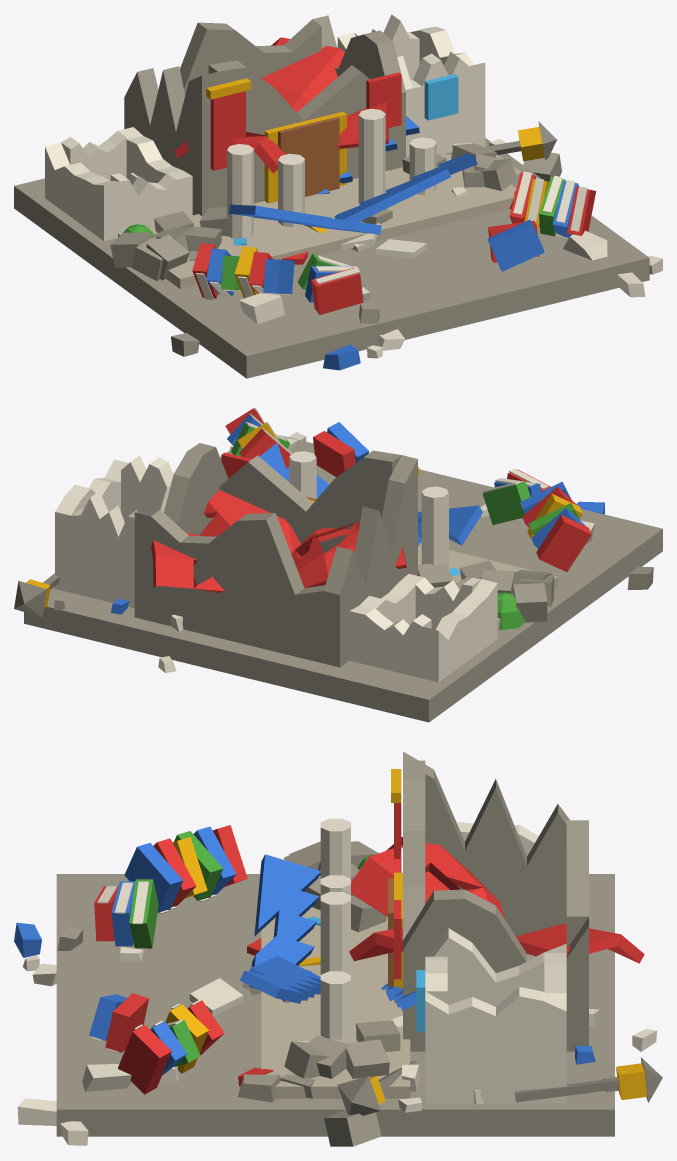
Rendered from library_t3_v3_dmg2.glb.
The picture shows the model from 3 angles, top to bottom: view 1: azimuth 30°, elevation 25°; view 2: azimuth 150°, elevation 25°; view 3: azimuth 270°, elevation 25°; orthographic projection. The views are drawn at different scales.
Visible parts, largest first — view 1: library_t3_v3_dmg2; view 2: library_t3_v3_dmg2; view 3: library_t3_v3_dmg2.
Part boxes in pixels (x1,y1,x2,y2): library_t3_v3_dmg2: [14, 14, 662, 378]; library_t3_v3_dmg2: [14, 407, 662, 722]; library_t3_v3_dmg2: [14, 751, 662, 1146].
Size of the model in its own units: 0.8761 by 0.3079 by 0.872.
Materials: 1 (1 with a texture image).
